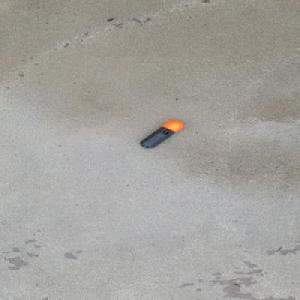PlasticPart: (139, 119, 184, 149)
